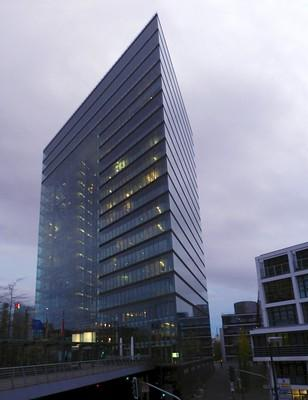building: (30, 8, 216, 370)
